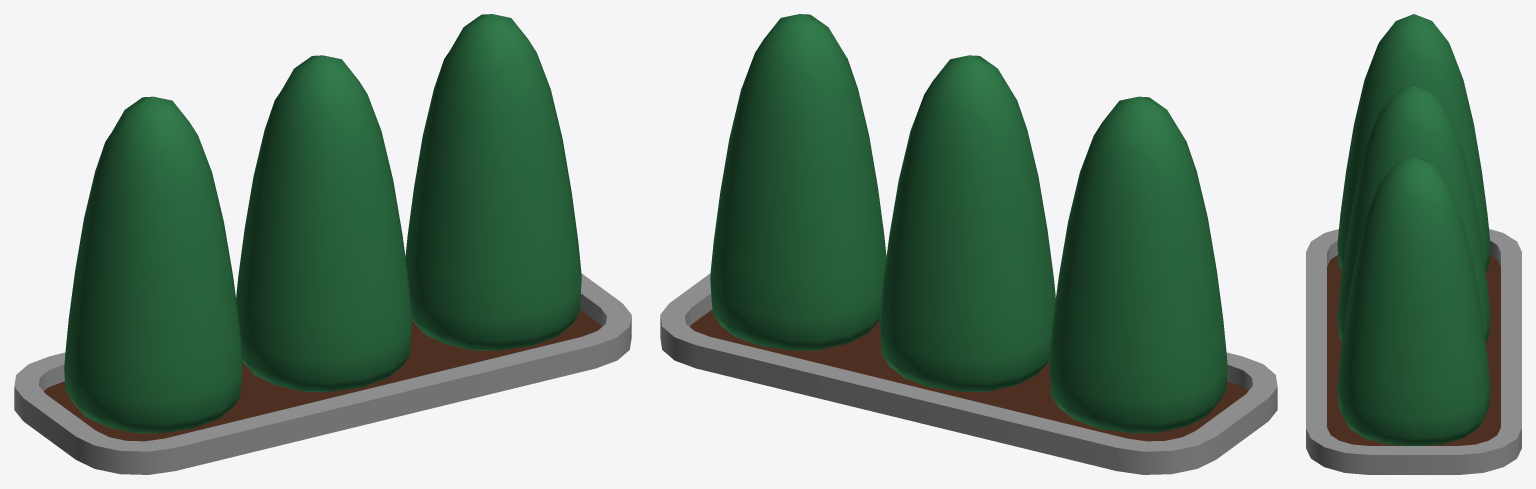
File: Tree_05.fbx
3 views of the same model, side by side, from view 1: azimuth 30°, elevation 25°; view 2: azimuth 150°, elevation 25°; view 3: azimuth 270°, elevation 25° (orthographic). The views are drawn at different scales.
Visible parts, largest first — view 1: Cube.108; view 2: Cube.108; view 3: Cube.108.
Boxes of the visible parts, x1,y1,x2,y2 form: Cube.108: (14,14,631,474); Cube.108: (660,14,1277,474); Cube.108: (1306,14,1521,474).
Size of the model in its own units: 1393 by 776 by 553.
